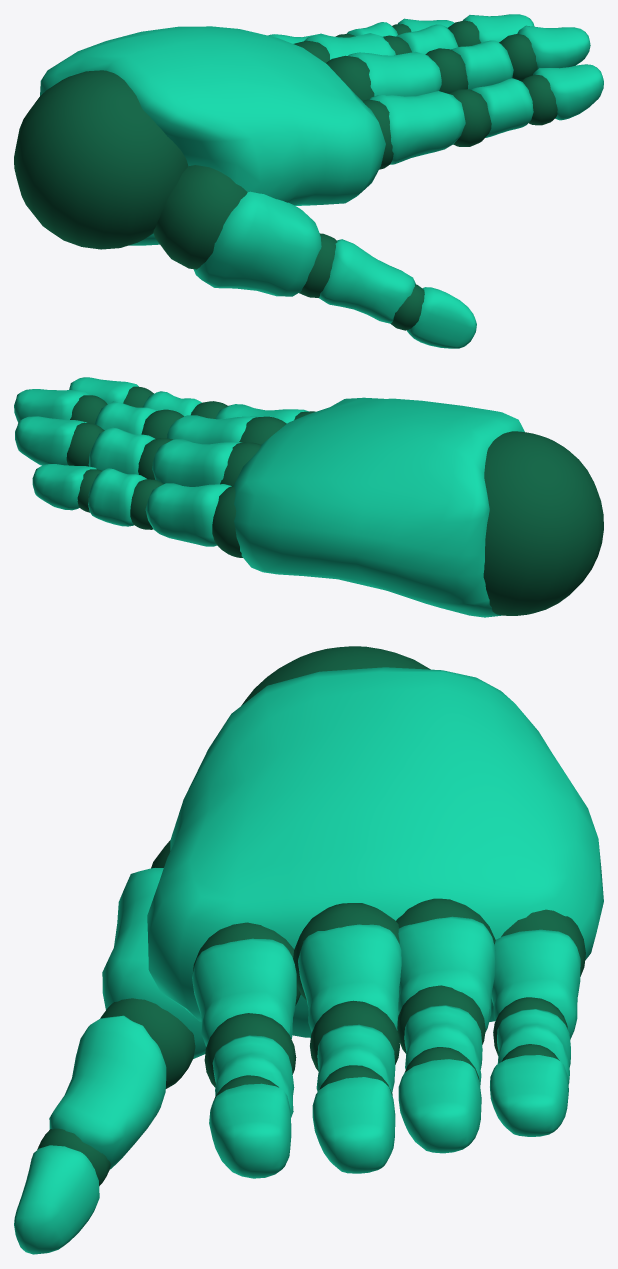
File: mano.obj
The picture shows the model from 3 angles, top to bottom: view 1: azimuth 30°, elevation 25°; view 2: azimuth 150°, elevation 25°; view 3: azimuth 270°, elevation 25°; orthographic projection. The views are drawn at different scales.
Visible parts, largest first — view 1: Beta_Surface.001_Mesh.002, Beta_Joints.001_Mesh.003; view 2: Beta_Surface.001_Mesh.002, Beta_Joints.001_Mesh.003; view 3: Beta_Surface.001_Mesh.002, Beta_Joints.001_Mesh.003.
Part boxes in pixels (bbox=[...]): Beta_Surface.001_Mesh.002: bbox=[40, 14, 603, 348]; Beta_Joints.001_Mesh.003: bbox=[14, 20, 557, 330]; Beta_Surface.001_Mesh.002: bbox=[14, 377, 524, 617]; Beta_Joints.001_Mesh.003: bbox=[66, 386, 603, 615]; Beta_Surface.001_Mesh.002: bbox=[14, 667, 603, 1254]; Beta_Joints.001_Mesh.003: bbox=[37, 646, 585, 1186].
Size of the model in its own units: 0.2188 by 0.0987 by 0.1276.
